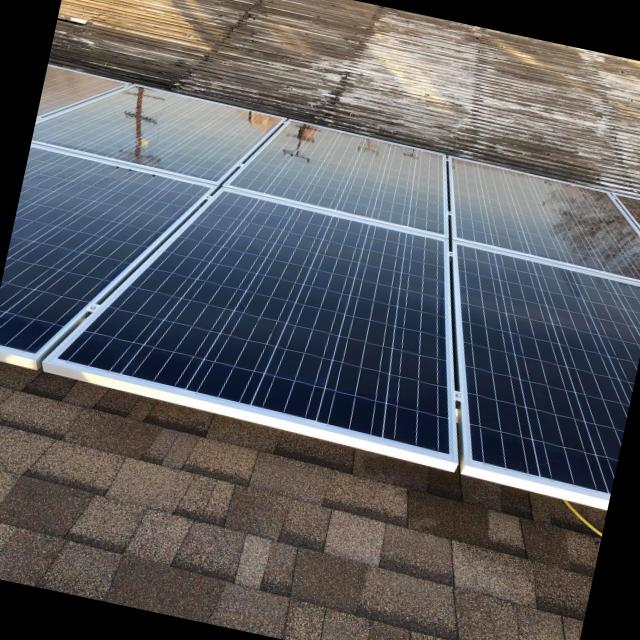faulty: (438, 158, 640, 281)
no faulty: (0, 148, 640, 493), (29, 66, 453, 235)
